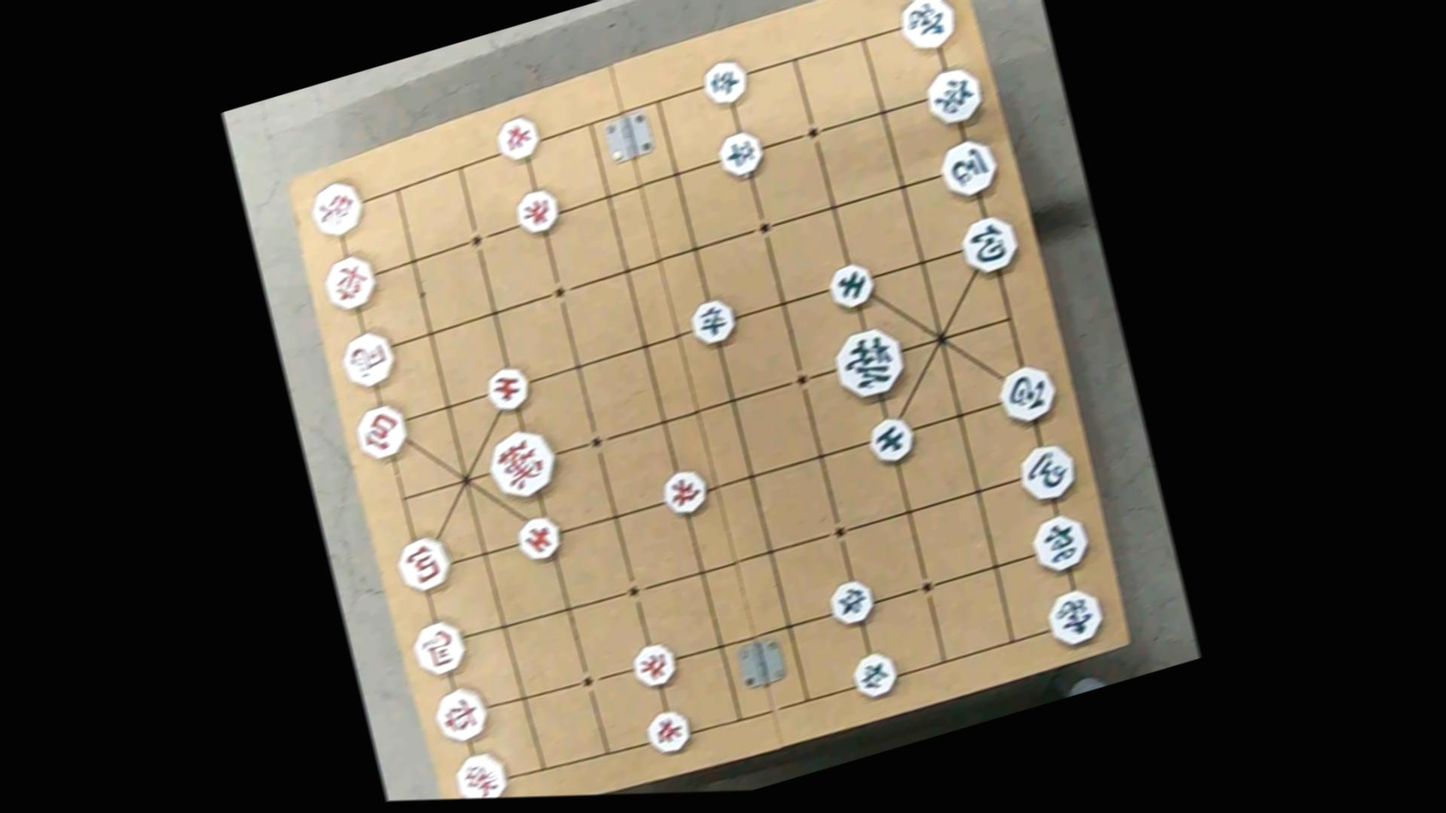cha_green: (1030, 507, 1094, 579), (923, 61, 987, 130)
cha_red: (431, 678, 493, 751), (321, 247, 383, 317)
jol_green: (688, 293, 739, 352), (716, 126, 767, 184), (700, 53, 751, 111), (827, 572, 877, 630), (851, 647, 900, 705)
jol_red: (511, 183, 564, 241), (642, 705, 697, 760), (661, 463, 712, 522), (493, 109, 543, 166), (630, 637, 679, 694)
ma_green: (938, 135, 1004, 206), (1018, 441, 1081, 513)
ma_red: (339, 326, 401, 397), (411, 614, 471, 684)
po_green: (959, 209, 1023, 281), (998, 362, 1061, 431)
po_red: (394, 531, 454, 599), (355, 399, 415, 467)
sa_green: (827, 256, 879, 314), (865, 412, 916, 471)
sa_red: (481, 360, 540, 420), (514, 510, 566, 568)
sang_green: (1041, 581, 1106, 651), (896, 0, 960, 55)
sang_red: (309, 175, 368, 245), (452, 744, 511, 799)
wang_green: (829, 321, 909, 407)
wang_red: (484, 421, 563, 504)
